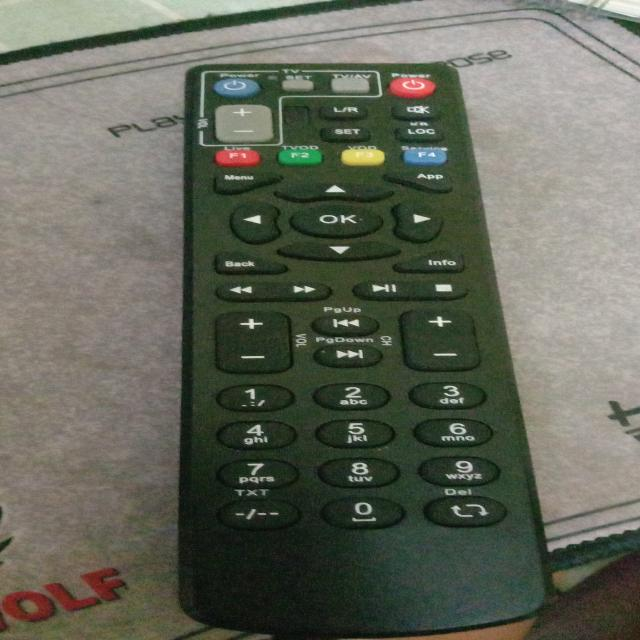remote: (144, 51, 561, 640)
